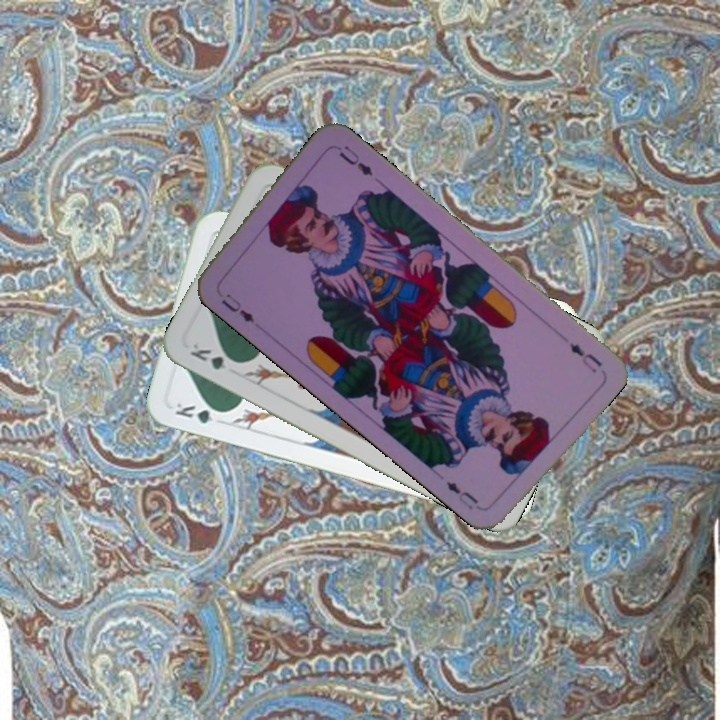EU: (565, 338, 605, 375), (217, 289, 257, 325)
GK: (185, 338, 243, 373), (171, 398, 229, 426)
